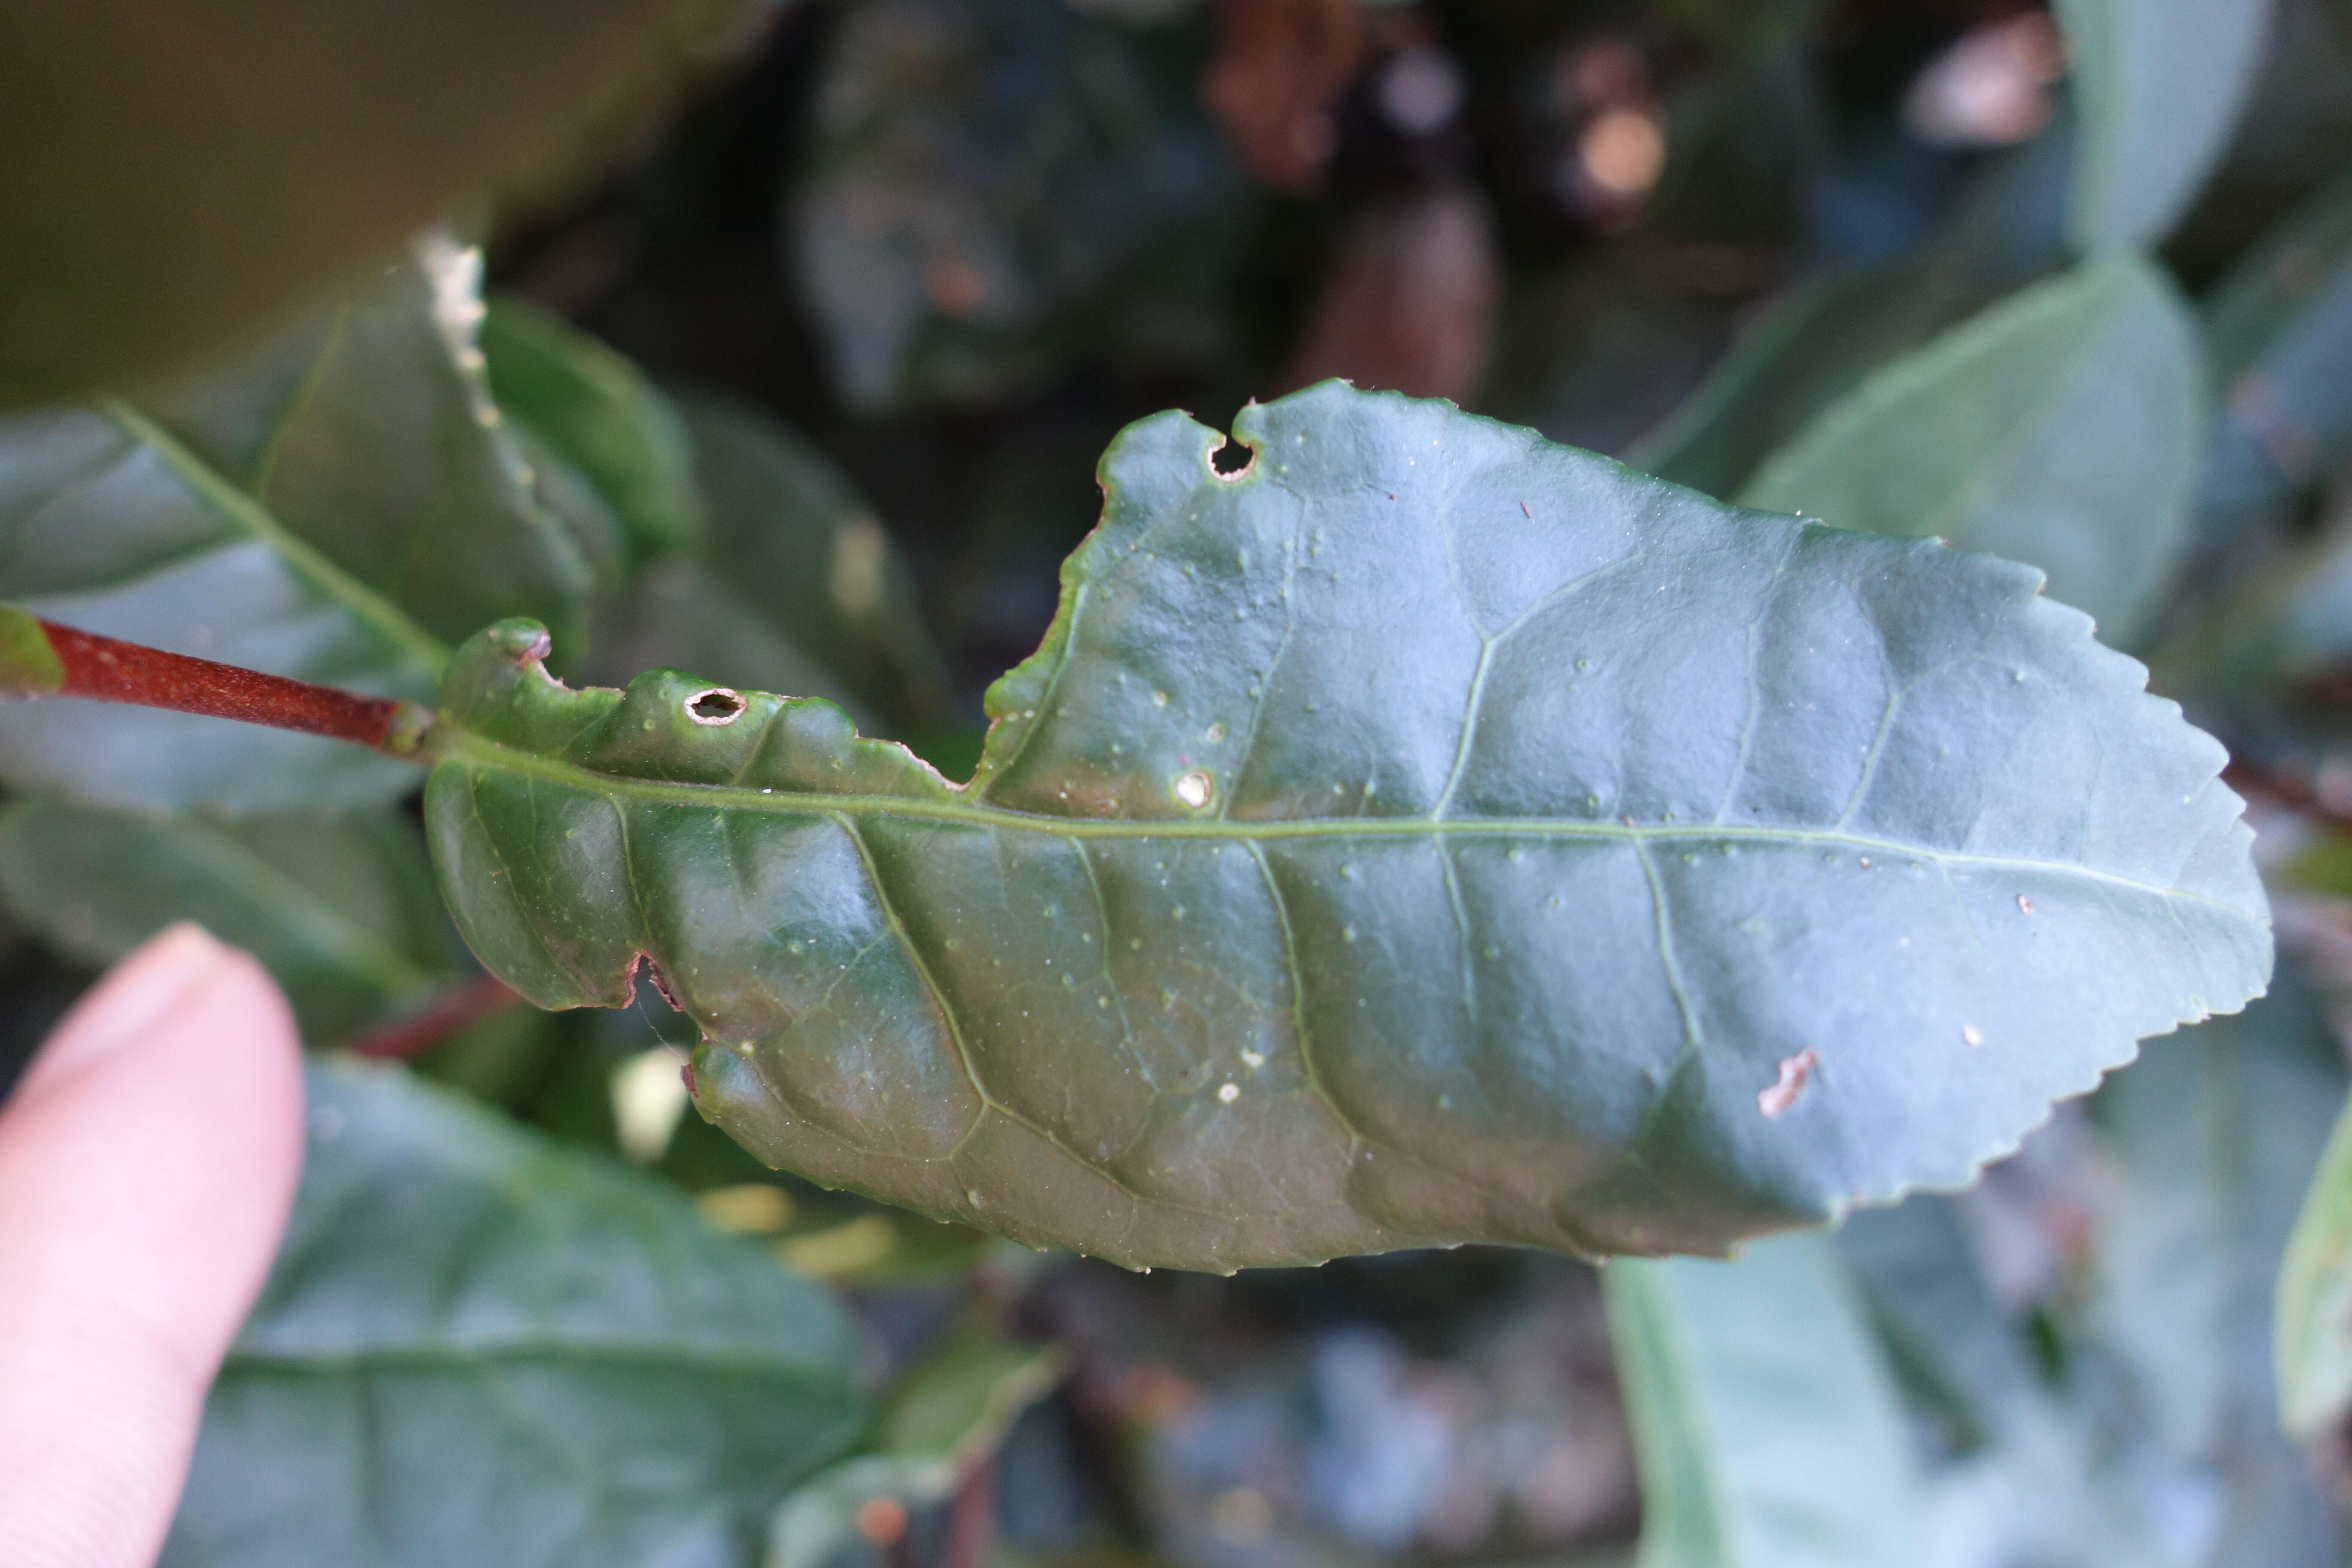chihuo_high: (422, 378, 2284, 1288)
